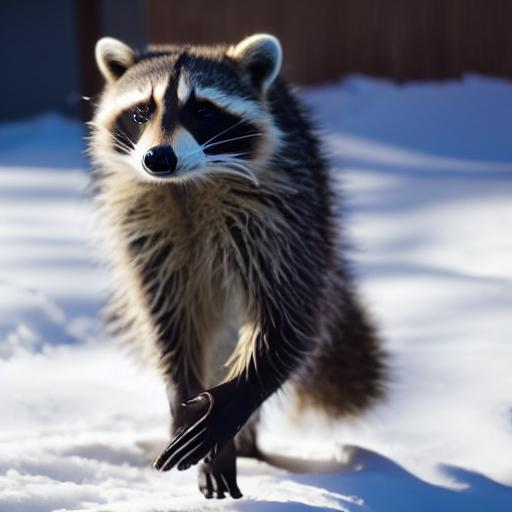raccoon: (72, 23, 404, 393)
